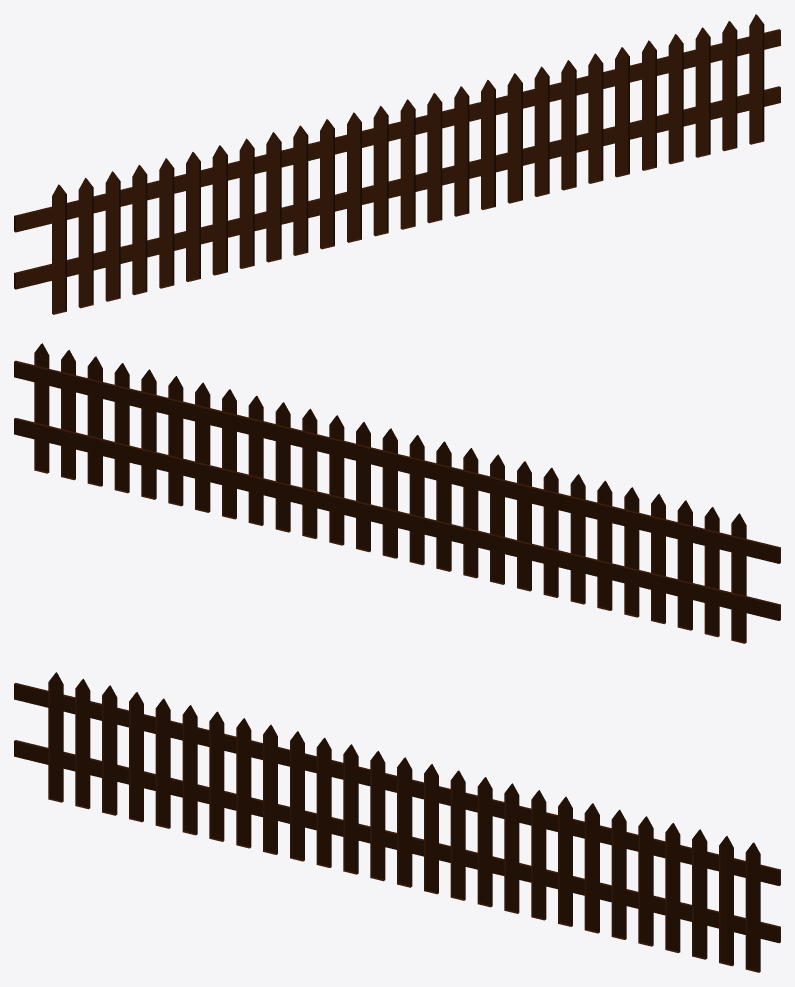
Rendered from Fence 1 1.fbx.
3 renders of one model, top to bottom at view 1: azimuth 30°, elevation 25°; view 2: azimuth 150°, elevation 25°; view 3: azimuth 330°, elevation 25°, orthographic.
Parts seen in each view (by area): view 1: Cube.004, Cube.002; view 2: Cube.004, Cube.002; view 3: Cube.004, Cube.002.
Boxes of the visible parts, x1,y1,x2,y2 form: Cube.004: (52,14,764,314); Cube.002: (14,29,780,289); Cube.004: (34,343,746,643); Cube.002: (14,360,780,620); Cube.004: (48,672,760,972); Cube.002: (14,683,780,943).
Bounding box in the file's own units: 16.69 × 2.66 × 0.1274.
